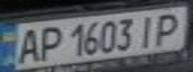0: (100, 17, 121, 53)
1: (63, 20, 87, 56)
3: (115, 16, 139, 52)
6: (81, 19, 103, 56)
A: (9, 26, 45, 64)
I: (133, 11, 163, 48)
P: (148, 10, 187, 47), (33, 24, 63, 62)
